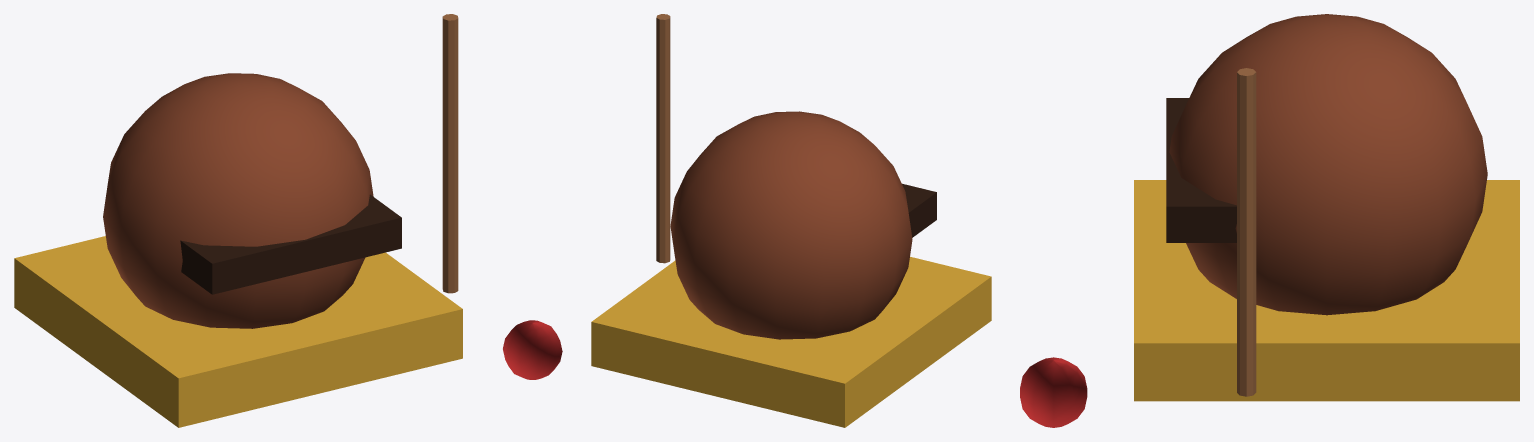
File: mo_go_tung_kinh.obj
3 renders of one model, left to right at view 1: azimuth 30°, elevation 25°; view 2: azimuth 150°, elevation 25°; view 3: azimuth 270°, elevation 25°, orthographic. The views are drawn at different scales.
Size of the model in its own units: 0.292 by 0.242 by 0.3109.
